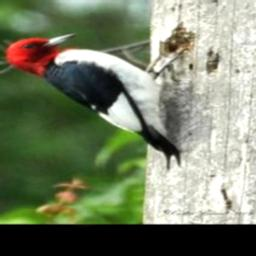Woodpecker: (4, 31, 178, 167)
